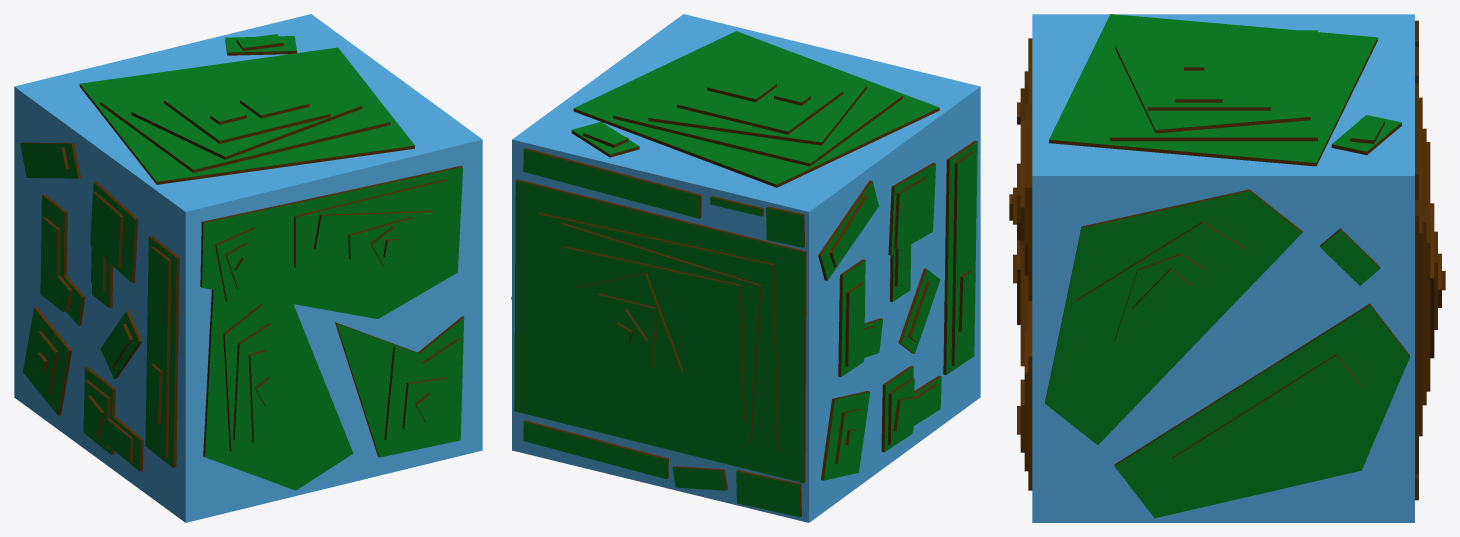
Rendered from планета земля 2.0.dae.
The picture shows the model from 3 angles, left to right: view 1: azimuth 30°, elevation 25°; view 2: azimuth 150°, elevation 25°; view 3: azimuth 270°, elevation 25°; orthographic projection. The views are drawn at different scales.
Visible parts, largest first — view 1: Cube; view 2: Cube; view 3: Cube.
Part boxes in pixels (x1=…): Cube: x1=14, y1=14, x2=482, y2=522; Cube: x1=511, y1=14, x2=980, y2=522; Cube: x1=1009, y1=14, x2=1445, y2=522.
Bounding box in the file's own units: 1.07 × 1.14 × 1.1.
